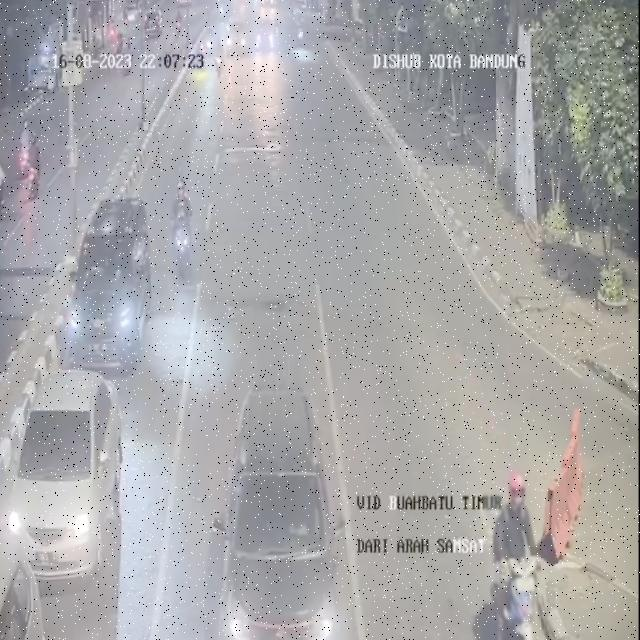cars: (221, 376, 345, 640), (12, 368, 129, 593), (65, 193, 150, 375), (0, 544, 42, 640), (257, 7, 279, 58), (230, 14, 255, 58)
motorcycle: (483, 465, 541, 640), (167, 177, 198, 283)
